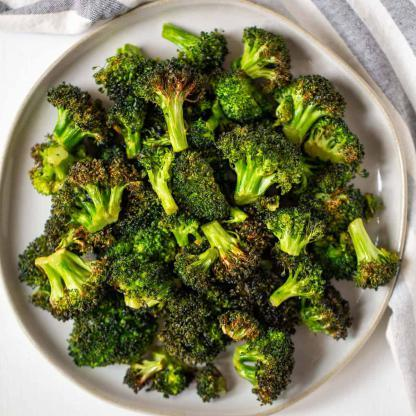broccoli: (18, 19, 396, 407)
